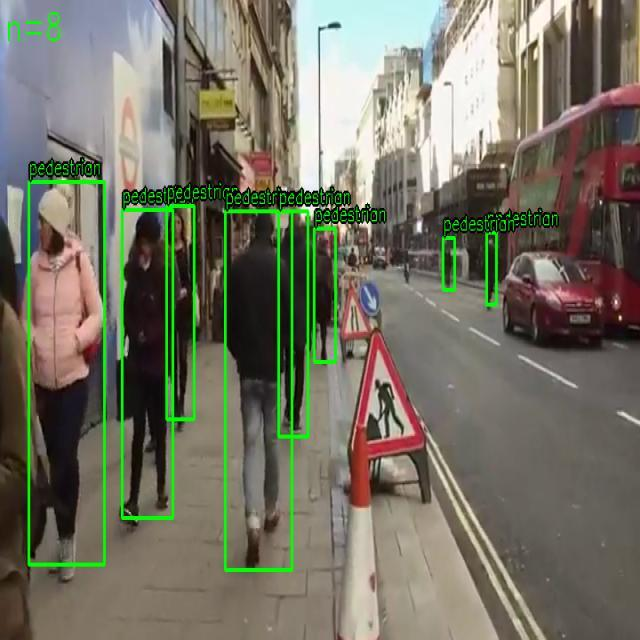with scooter: (28, 182, 105, 566), (225, 210, 292, 570), (122, 209, 174, 519), (278, 211, 308, 437), (166, 205, 195, 420), (314, 228, 336, 362), (486, 232, 497, 306), (442, 237, 456, 291)
